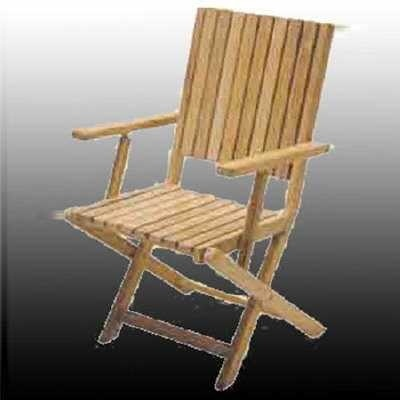obstacle: (64, 8, 333, 390)
